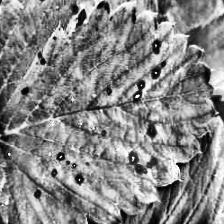Leaf Spot: (0, 0, 219, 224), (0, 0, 94, 128)
